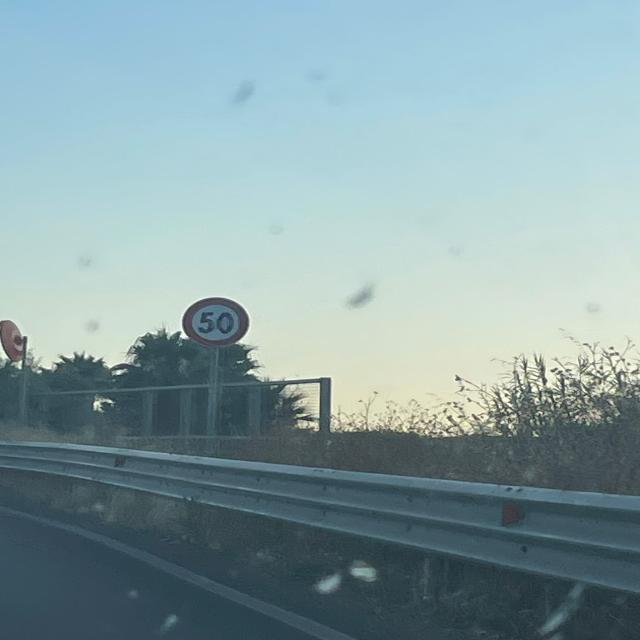forb_speed_over_50: (181, 296, 250, 348)
